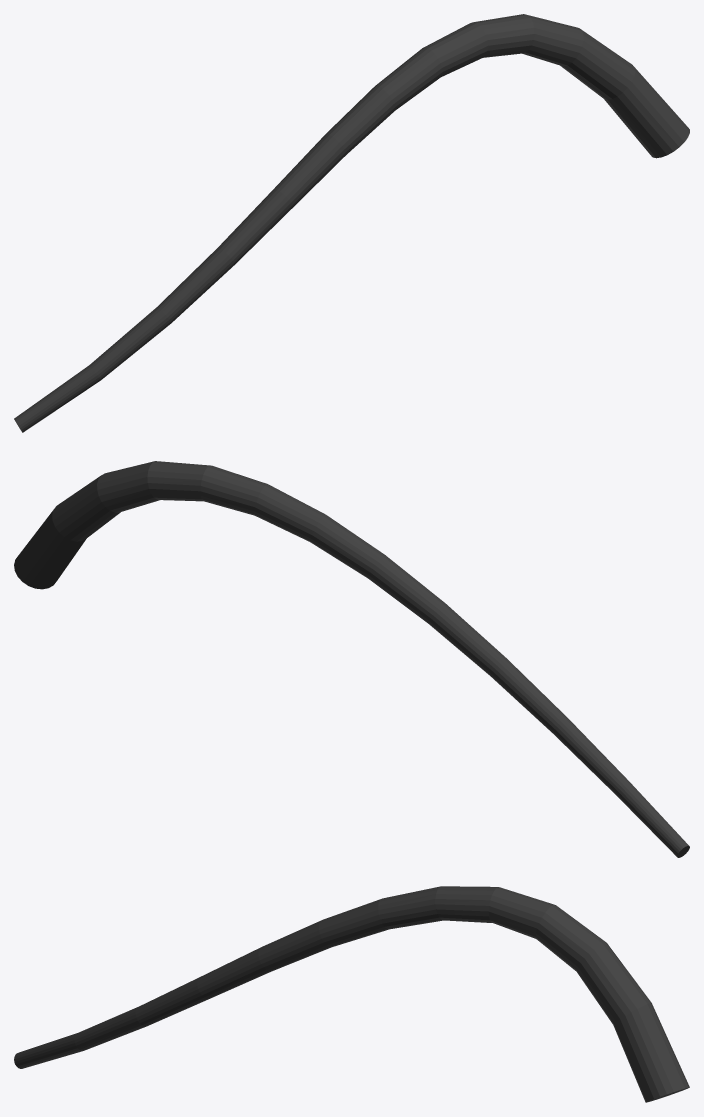
The model's file is n_VII_auriculopalpebral_rostral_auricular.glb.
3 renders of one model, top to bottom at view 1: azimuth 30°, elevation 25°; view 2: azimuth 150°, elevation 25°; view 3: azimuth 330°, elevation 25°, orthographic.
Visible parts, largest first — view 1: n_VII_auriculopalpebral_rostral_auricular; view 2: n_VII_auriculopalpebral_rostral_auricular; view 3: n_VII_auriculopalpebral_rostral_auricular.
Boxes of the visible parts, x1=… form: n_VII_auriculopalpebral_rostral_auricular: x1=14, y1=14, x2=689, y2=432; n_VII_auriculopalpebral_rostral_auricular: x1=14, y1=461, x2=689, y2=857; n_VII_auriculopalpebral_rostral_auricular: x1=14, y1=886, x2=689, y2=1102.
Size of the model in its own units: 0.00493 by 0.00201 by 0.000503.
Materials: 1 (1 with a texture image).
